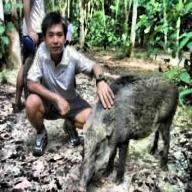boar: (72, 60, 191, 176)
